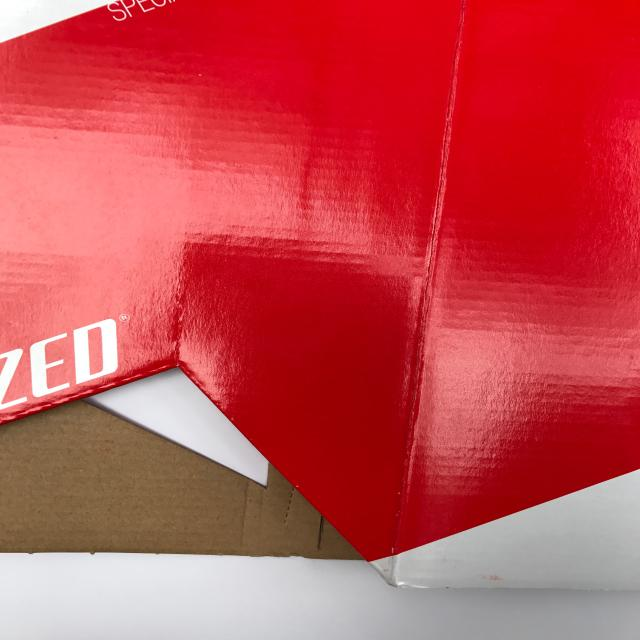cardboard: (2, 3, 640, 608)
